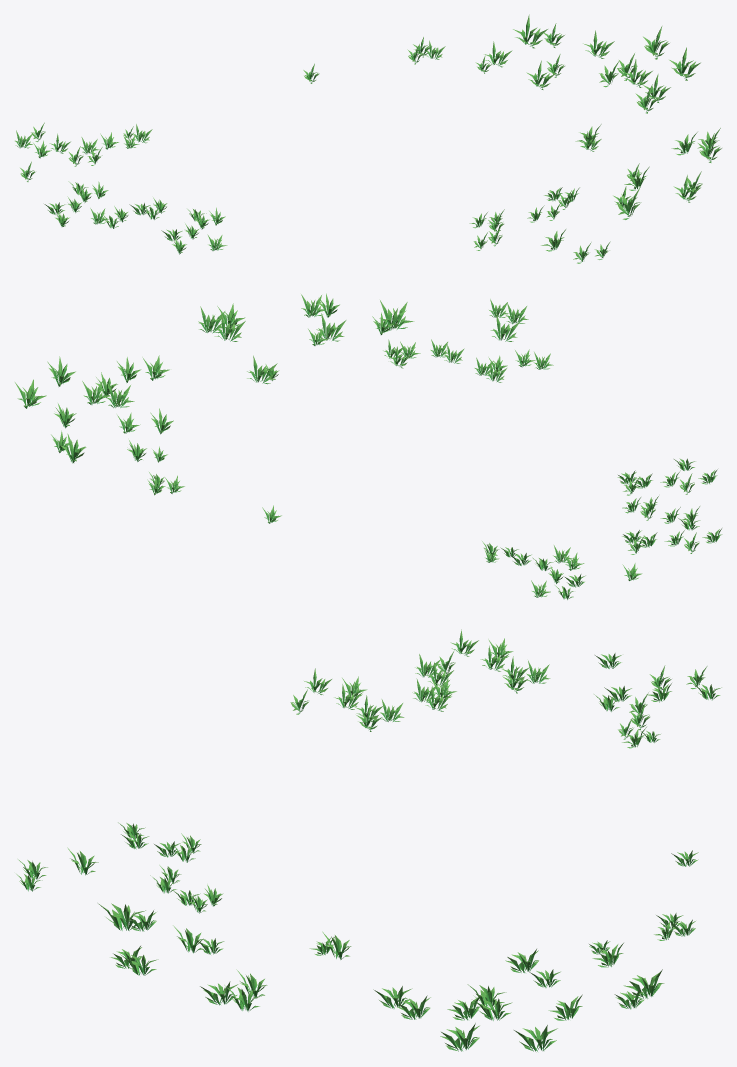
Rendered from Area_03_1.fbx.
3 renders of one model, top to bottom at view 1: azimuth 30°, elevation 25°; view 2: azimuth 150°, elevation 25°; view 3: azimuth 270°, elevation 25°, orthographic. The views are drawn at different scales.
Visible parts, largest first — view 1: Area_03_1; view 2: Area_03_1; view 3: Area_03_1.
Boxes of the visible parts, x1=… form: Area_03_1: x1=15, y1=14, x2=721, y2=263; Area_03_1: x1=15, y1=293, x2=722, y2=599; Area_03_1: x1=16, y1=629, x2=721, y2=1051.
Bounding box in the file's own units: 3889 × 168 × 2877.
